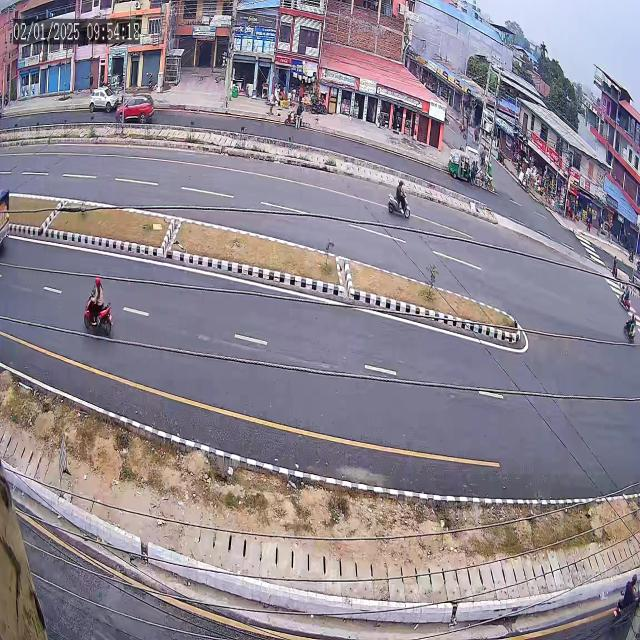car: (114, 83, 157, 138), (81, 77, 123, 118)
motorcycle: (72, 261, 126, 343), (383, 167, 414, 229), (624, 308, 638, 351)
